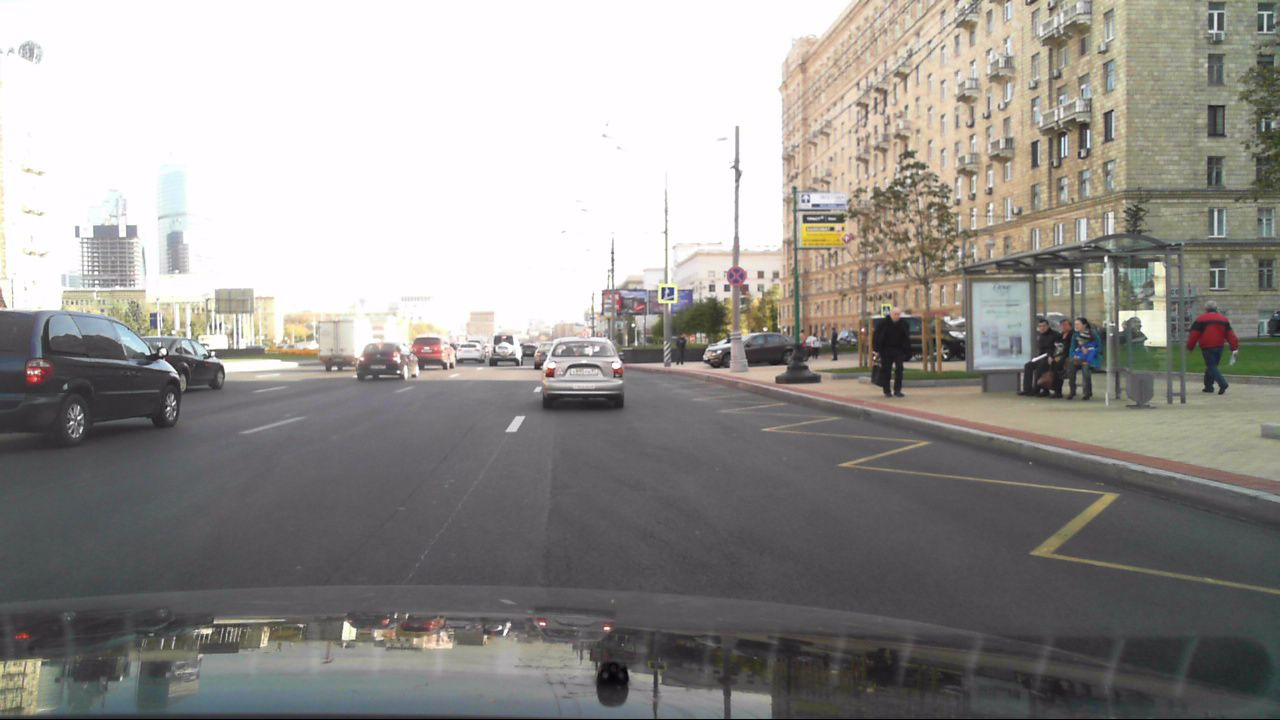No Parking: (727, 265, 746, 286)
